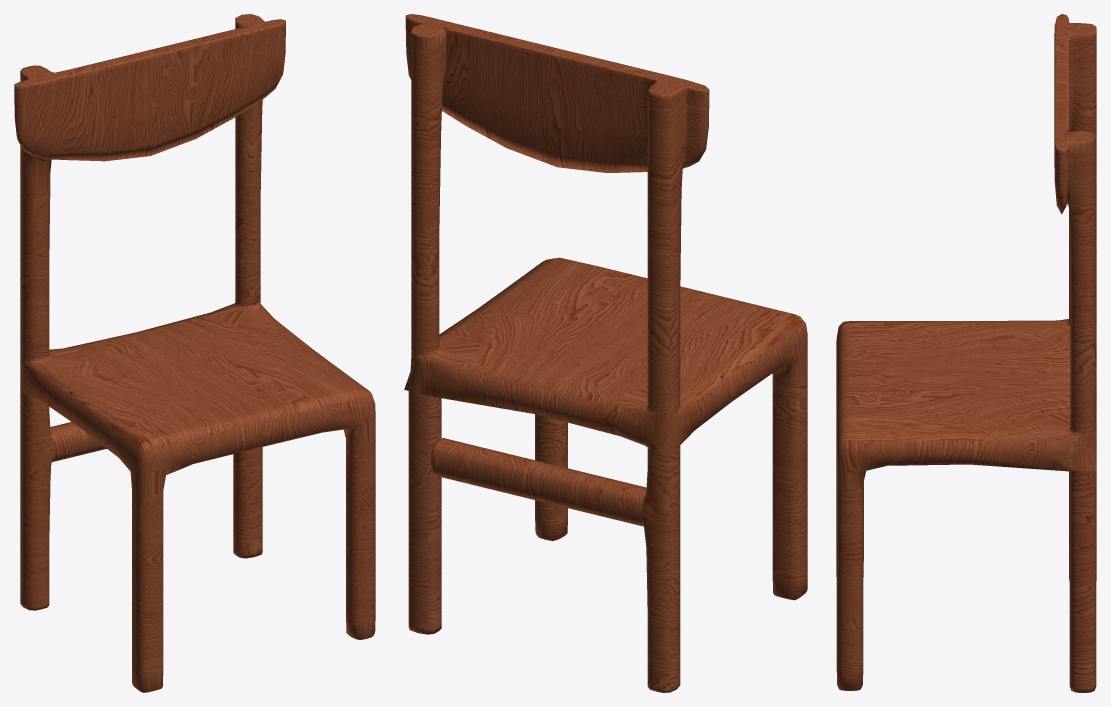
Rendered from salotto_sedia.fbx.
3 views of the same model, side by side, from view 1: azimuth 30°, elevation 25°; view 2: azimuth 150°, elevation 25°; view 3: azimuth 270°, elevation 25° (orthographic). The views are drawn at different scales.
Parts seen in each view (by area): view 1: sedia; view 2: sedia; view 3: sedia.
Part boxes in pixels (bbox=[...]): sedia: bbox=[14, 14, 375, 692]; sedia: bbox=[404, 14, 807, 692]; sedia: bbox=[836, 14, 1096, 692].
Bounding box in the file's own units: 49.6 × 93.23 × 40.
